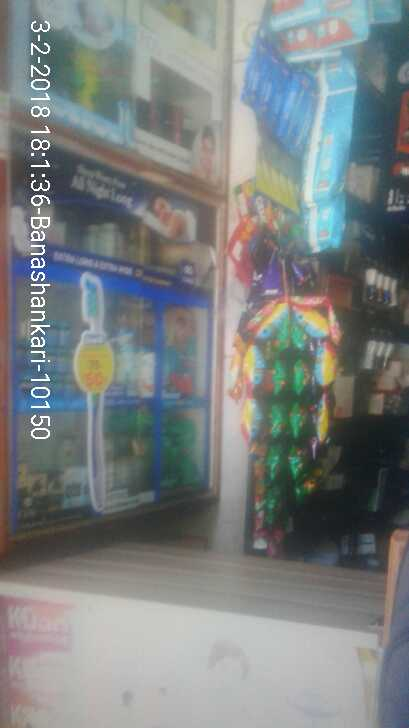beauty: (60, 464, 82, 507), (139, 343, 157, 394)
pharmacy: (295, 91, 350, 200), (303, 206, 351, 253)
